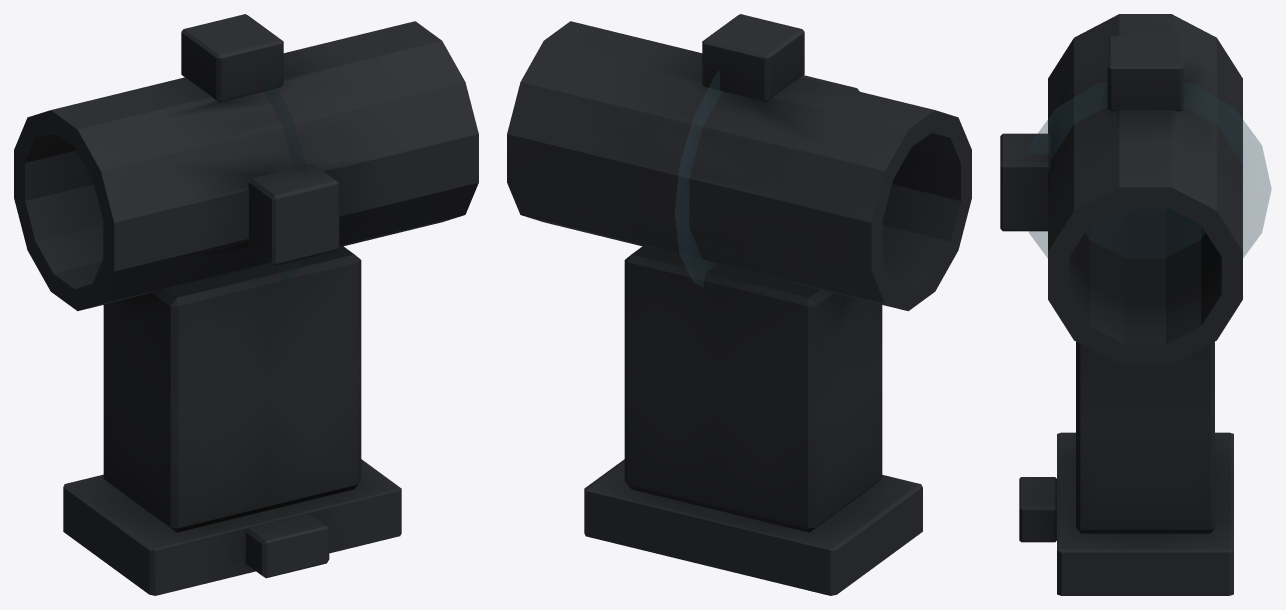
The model's file is k-att-reddot-lprtuboalto.glb.
The picture shows the model from 3 angles, left to right: view 1: azimuth 30°, elevation 25°; view 2: azimuth 150°, elevation 25°; view 3: azimuth 270°, elevation 25°; orthographic projection. The views are drawn at different scales.
Parts seen in each view (by area): view 1: kit, lens; view 2: kit, lens; view 3: kit, lens.
Boxes of the visible parts, box(x1,y1,x2,y2) form: kit: box(14, 14, 478, 595); lens: box(264, 71, 306, 287); kit: box(507, 14, 971, 595); lens: box(675, 71, 721, 287); kit: box(1000, 14, 1242, 595); lens: box(1027, 82, 1271, 257).
Size of the model in its own units: 0.065 by 0.085 by 0.043.
